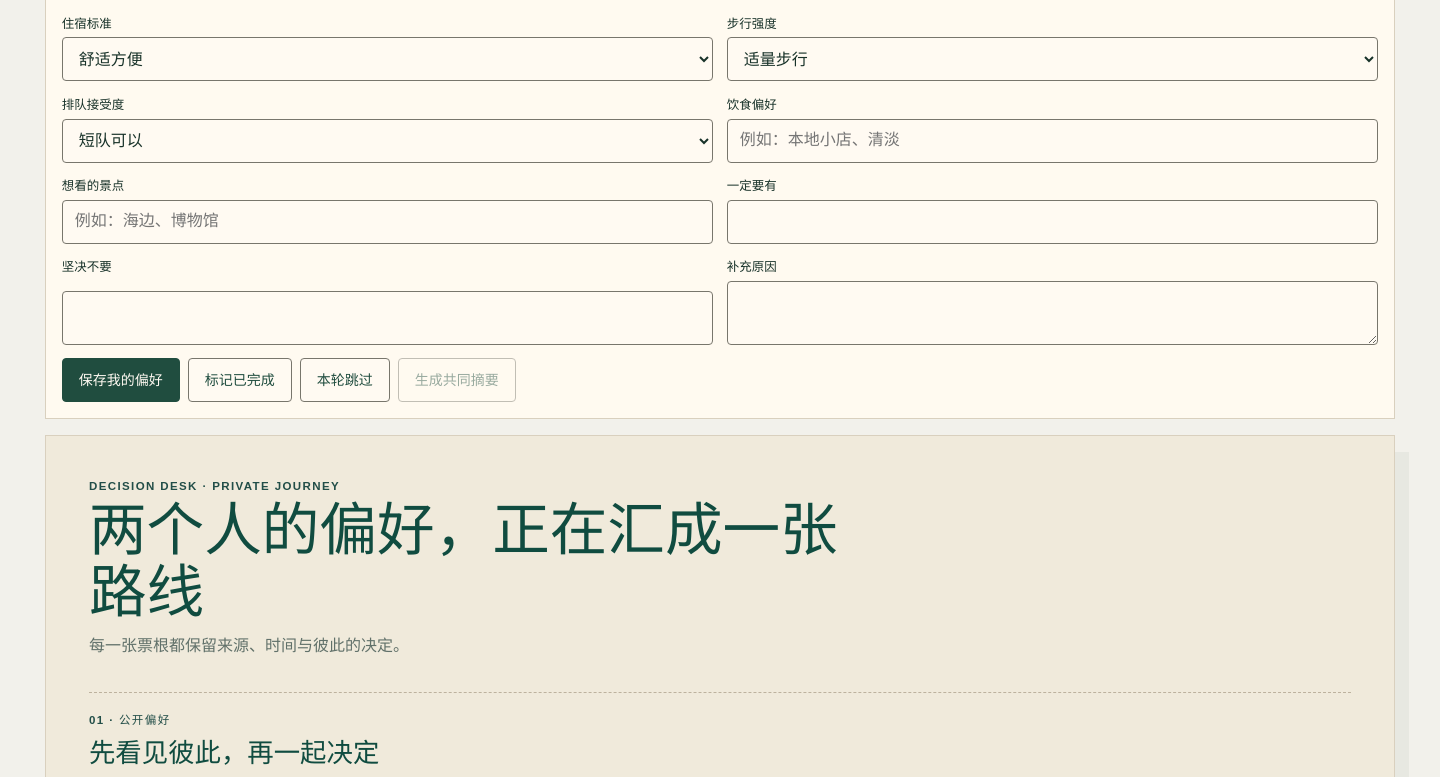
Test: announces command failure {"ok":false,"error":"VERSION_CONFLICT"} as an alert
(page scrolled)
Expected: the heading "两个人的偏好，正在汇成一张路线" is shown, x1=89 y1=500 x2=873 y2=624
Click the button "保存我的偏好".
click(121, 380)  # box x1=62 y1=358 x2=180 y2=402
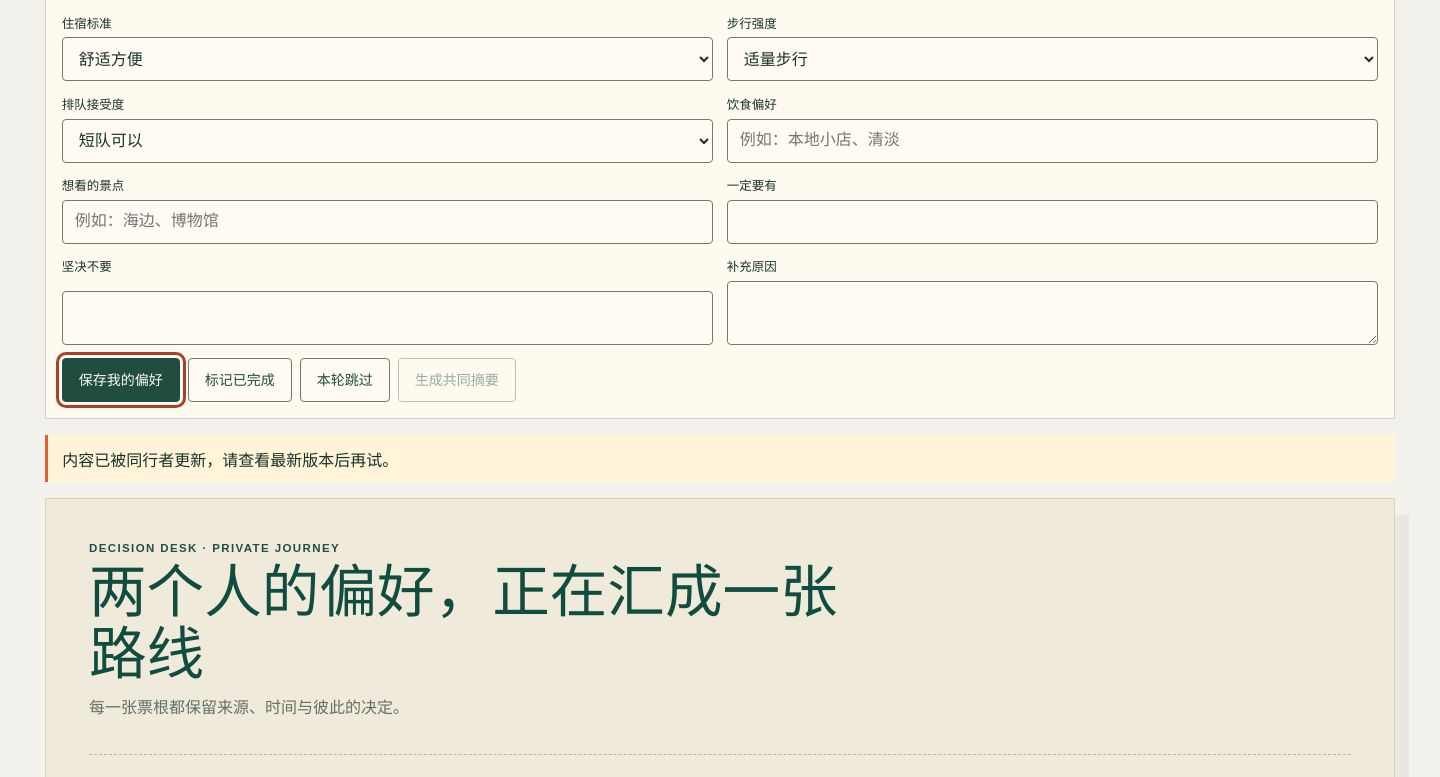
Result: the message shows "内容已被同行者更新" at x1=62 y1=452 x2=398 y2=469
